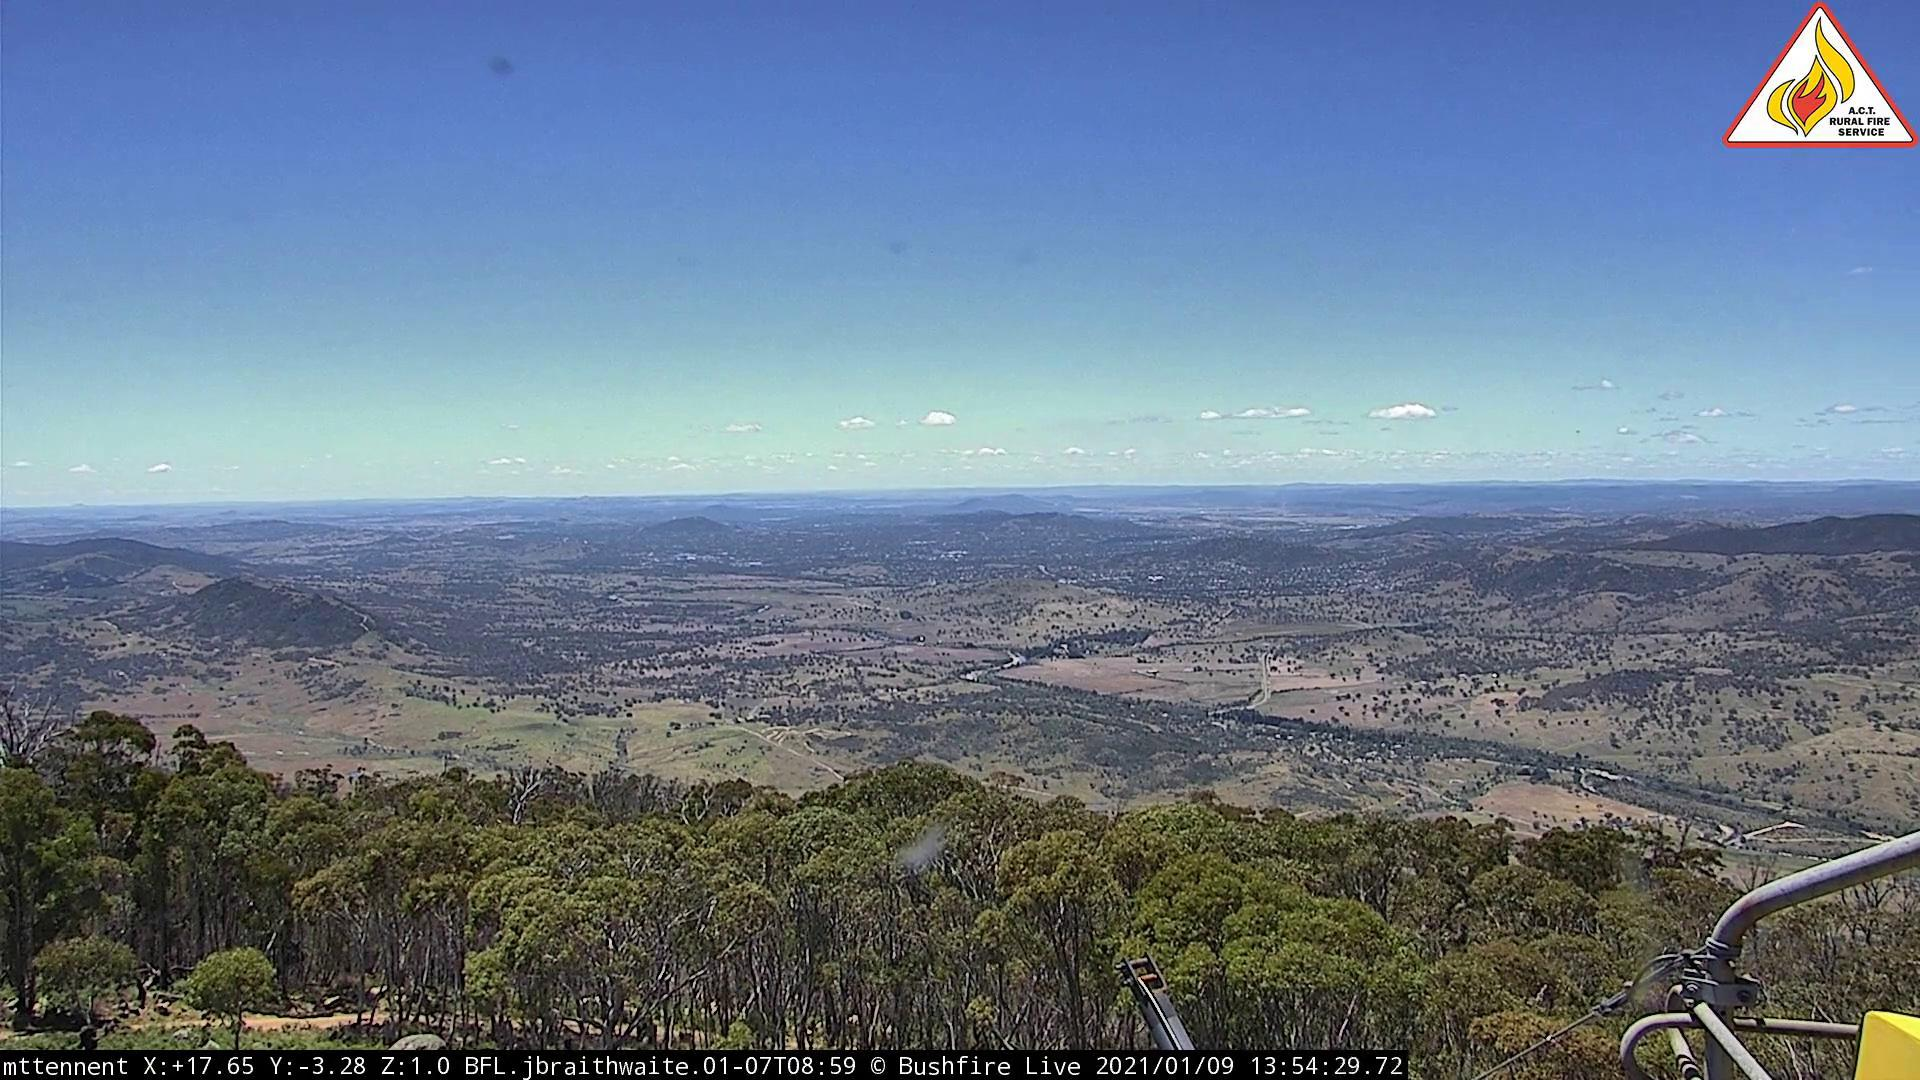instance_salient_object: (1276, 498, 1295, 520)
